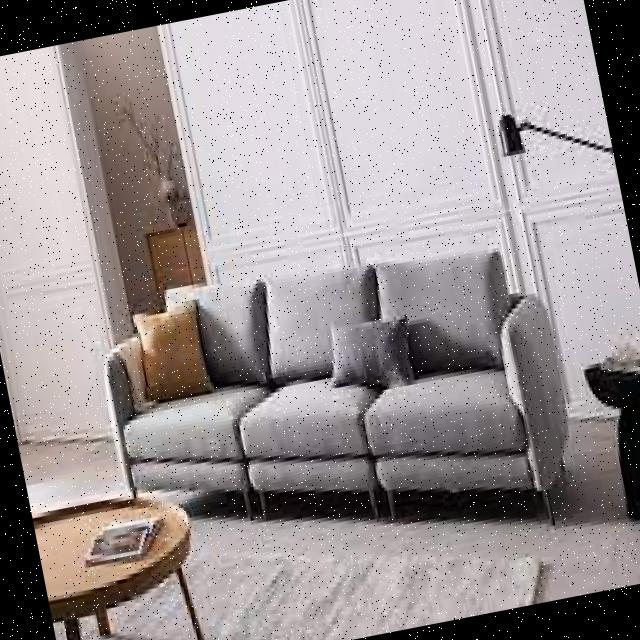Sofa: (80, 178, 616, 618)
